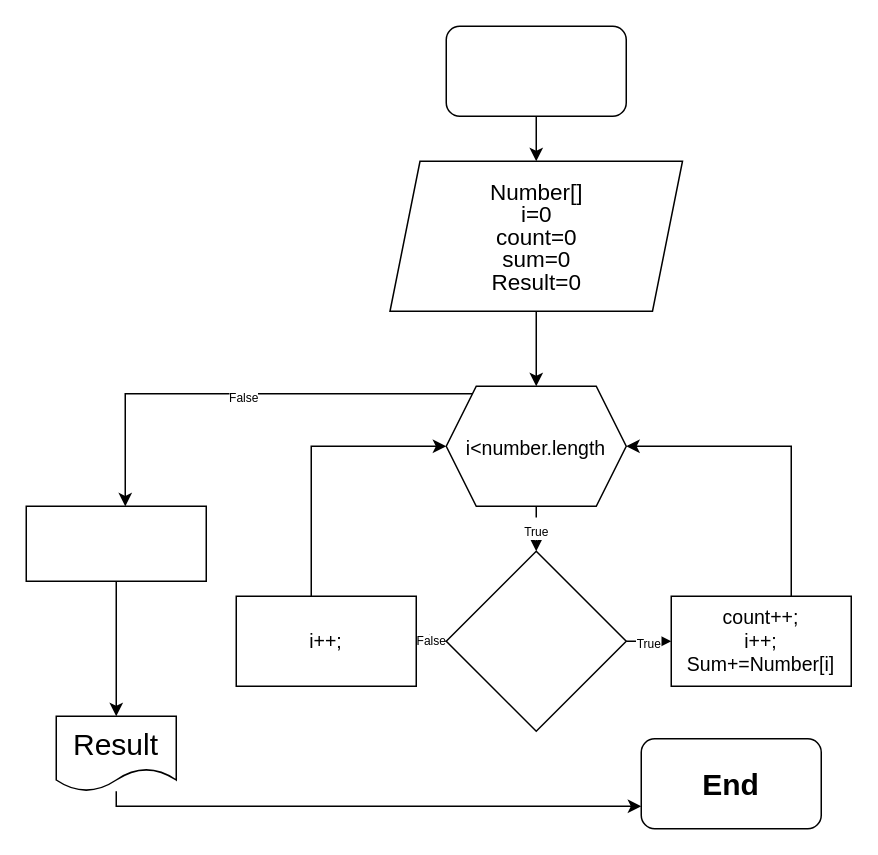
The diagram is 878 pixels wide and 855 high, and some of its shapes have lost their labels. The shapes that lost their labels are listed below. From the top down, each one's centre as x and y in pixels, then its label:
pixel 535 70: Start
pixel 115 543: Result=Sum/count
pixel 535 640: Number[i]%2==1
